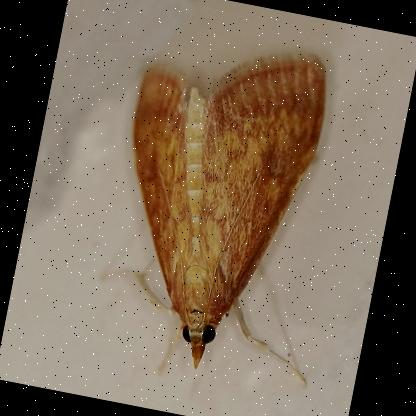Asian Corn Borer Moth: (80, 19, 371, 404)
